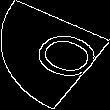O_SE: (9, 23, 101, 87)
